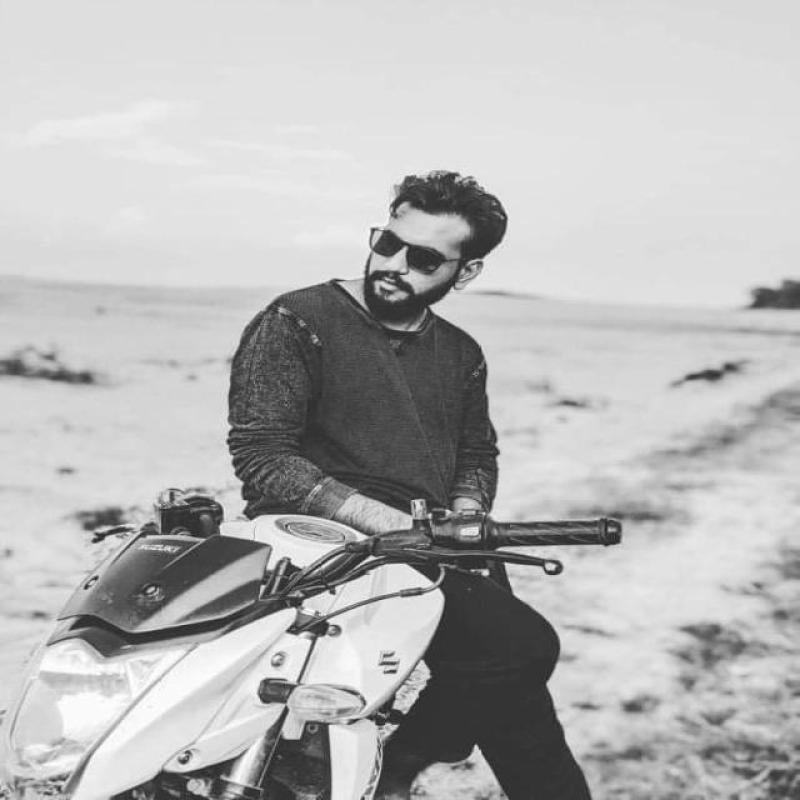nohelmet: (353, 168, 491, 324)
